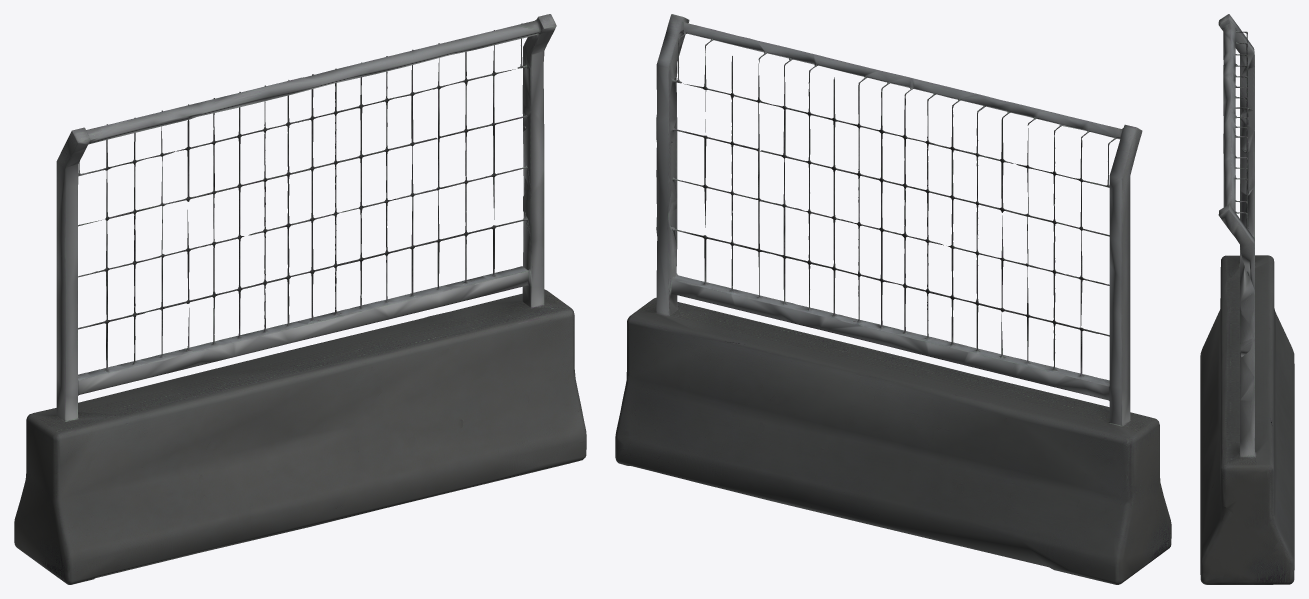
The model's file is Meshy_AI_Metal_Mesh_Barrier_on_0613035823_texture.fbx.
3 renders of one model, left to right at view 1: azimuth 30°, elevation 25°; view 2: azimuth 150°, elevation 25°; view 3: azimuth 270°, elevation 25°, orthographic. The views are drawn at different scales.
Parts seen in each view (by area): view 1: Mesh_0; view 2: Mesh_0; view 3: Mesh_0.
Boxes of the visible parts, x1,y1,x2,y2 form: Mesh_0: [14, 14, 586, 584]; Mesh_0: [615, 14, 1171, 584]; Mesh_0: [1200, 14, 1294, 584].
Bounding box in the file's own units: 191 × 154 × 35.82.
Materials: 1 (1 with a texture image).
